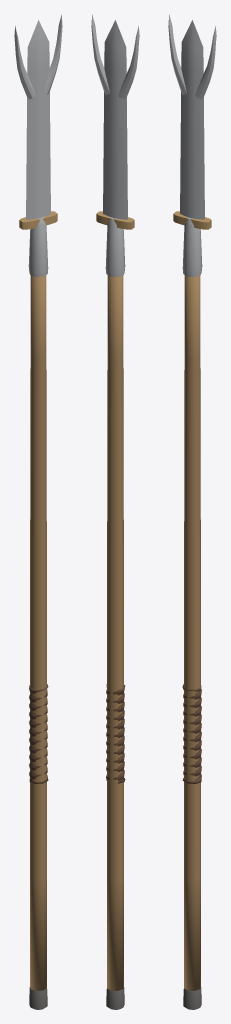
Rendered from tri-point-double-edged-sword.glb.
The picture shows the model from 3 angles, left to right: view 1: azimuth 30°, elevation 25°; view 2: azimuth 150°, elevation 25°; view 3: azimuth 330°, elevation 25°; orthographic projection.
Visible parts, largest first — view 1: tri-point-double-edged-sword; view 2: tri-point-double-edged-sword; view 3: tri-point-double-edged-sword.
Part boxes in pixels (bbox=[...]): tri-point-double-edged-sword: bbox=[14, 14, 62, 1009]; tri-point-double-edged-sword: bbox=[91, 14, 139, 1009]; tri-point-double-edged-sword: bbox=[168, 14, 216, 1009].
Bounding box in the file's own units: 0.2631 × 5.26 × 0.0974.
